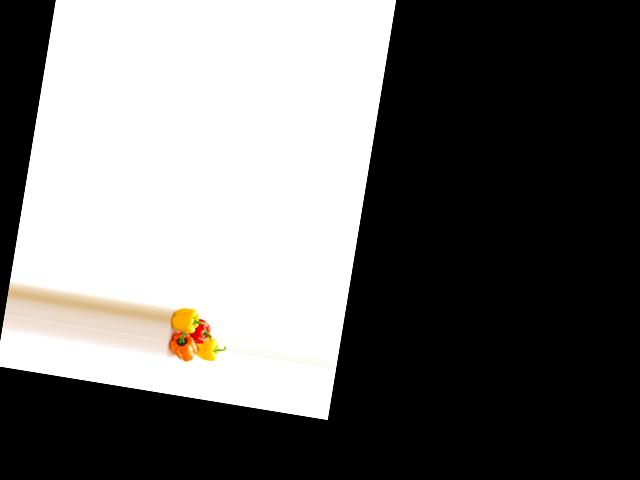bell_pepper: (168, 305, 205, 342)
